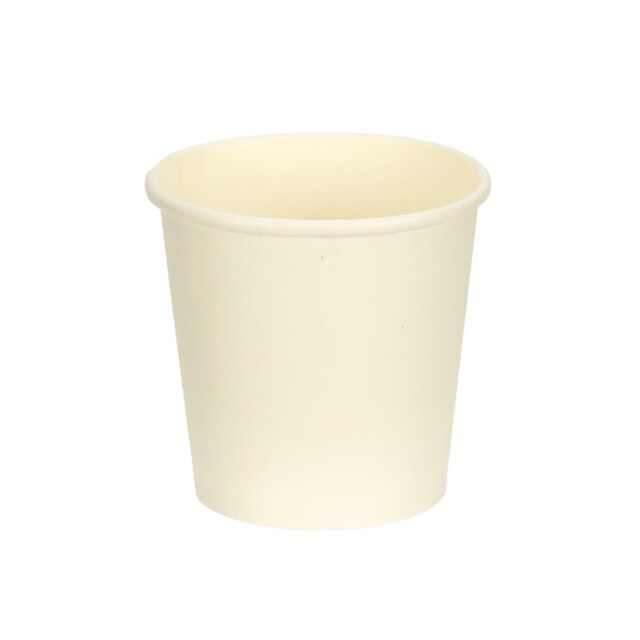PaperCup: (140, 130, 495, 534)
